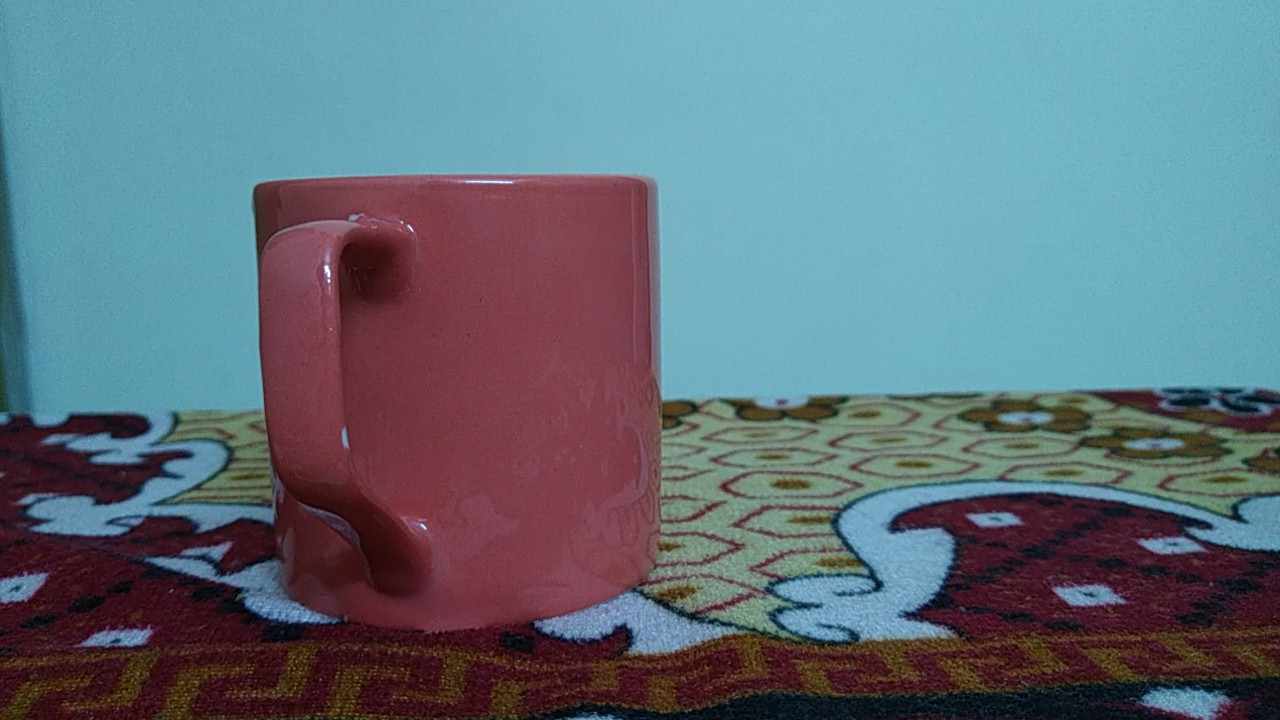cup: (233, 161, 688, 645)
